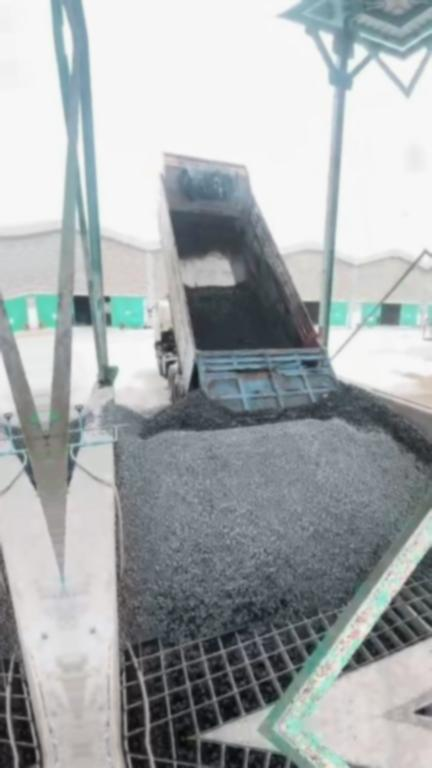gravel: (99, 383, 432, 641), (188, 282, 292, 349), (419, 518, 432, 570)
sand: (374, 369, 432, 415)
